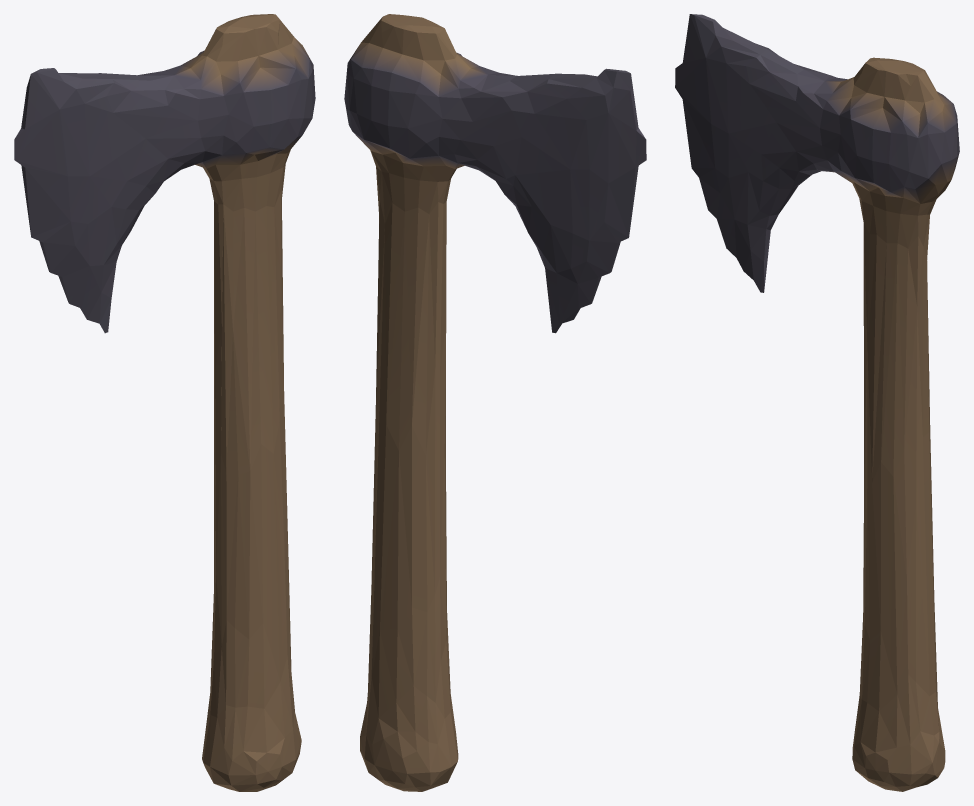
The model's file is axe_obsidian.glb.
The picture shows the model from 3 angles, left to right: view 1: azimuth 30°, elevation 25°; view 2: azimuth 150°, elevation 25°; view 3: azimuth 330°, elevation 25°; orthographic projection. The views are drawn at different scales.
Parts seen in each view (by area): view 1: world; view 2: world; view 3: world.
Boxes of the visible parts, x1,y1,x2,y2 form: world: (14, 14, 315, 791); world: (344, 14, 646, 791); world: (675, 14, 959, 791).
Bounding box in the file's own units: 0.4046 × 1 × 0.1166.
